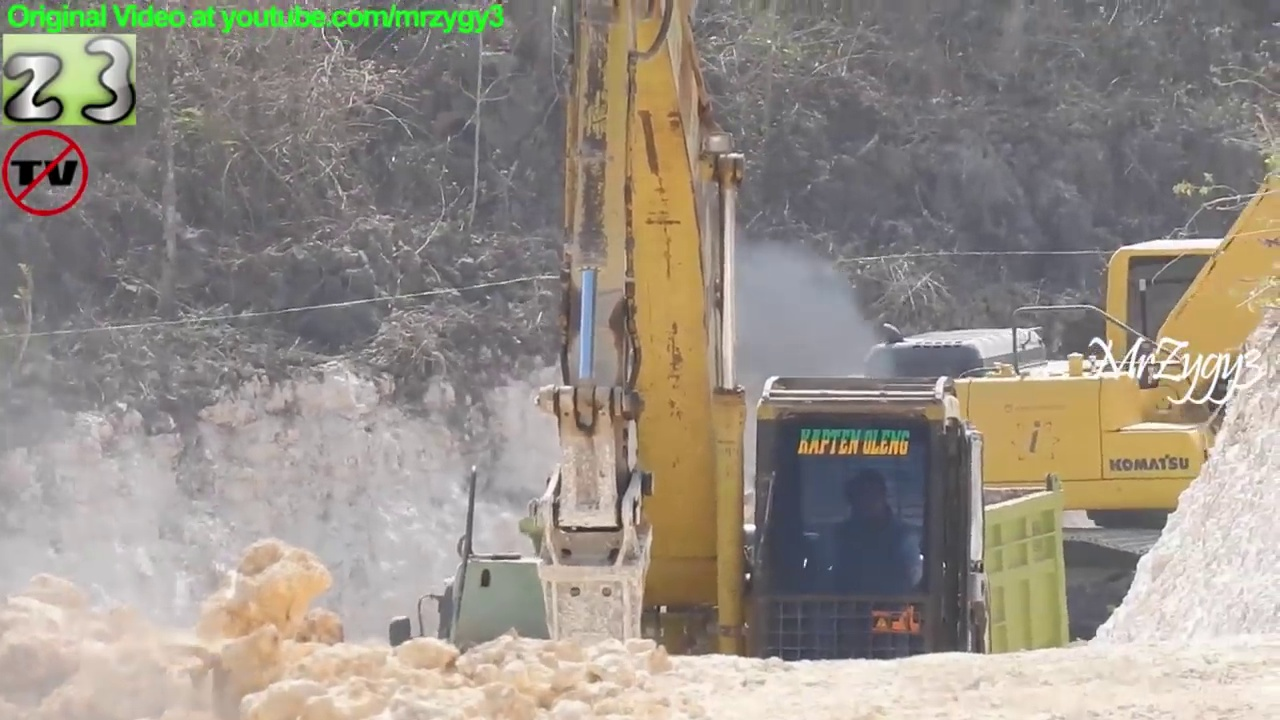excavator: (511, 1, 1006, 720), (777, 129, 1280, 672)
truck: (505, 464, 1084, 720)
